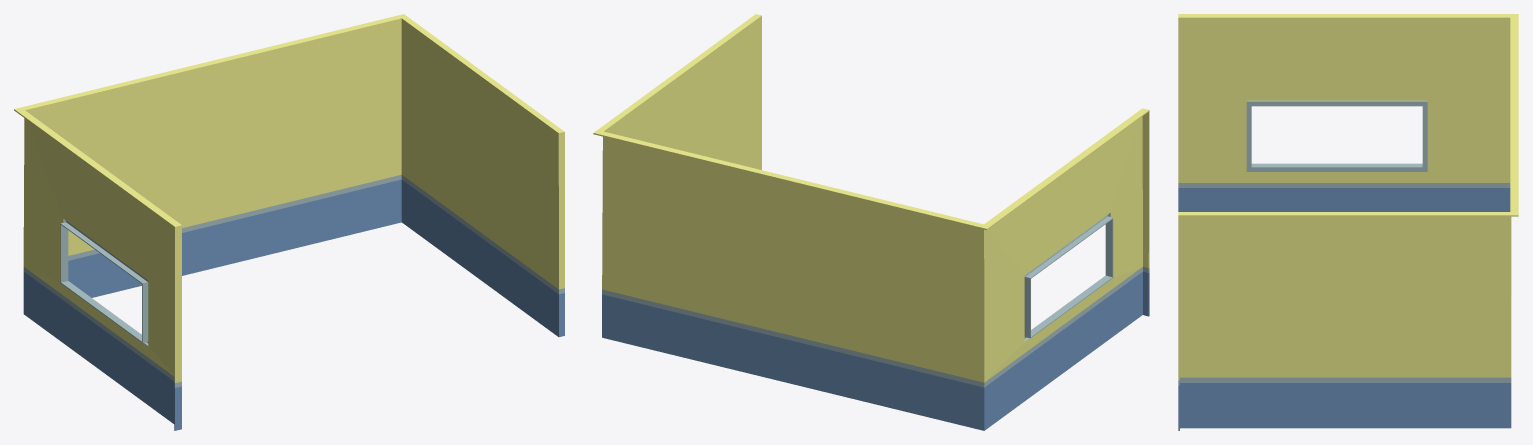
The model's file is OfficeWalls.fbx.
3 renders of one model, left to right at view 1: azimuth 30°, elevation 25°; view 2: azimuth 150°, elevation 25°; view 3: azimuth 270°, elevation 25°, orthographic. The views are drawn at different scales.
Visible parts, largest first — view 1: Walls; view 2: Walls; view 3: Walls.
Boxes of the visible parts, x1,y1,x2,y2 form: Walls: (14,14,564,430); Walls: (593,14,1149,430); Walls: (1178,14,1518,430).
Size of the model in its own units: 3000 by 1500 by 2145.
